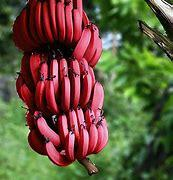banana: (15, 0, 118, 165), (27, 57, 108, 155)
